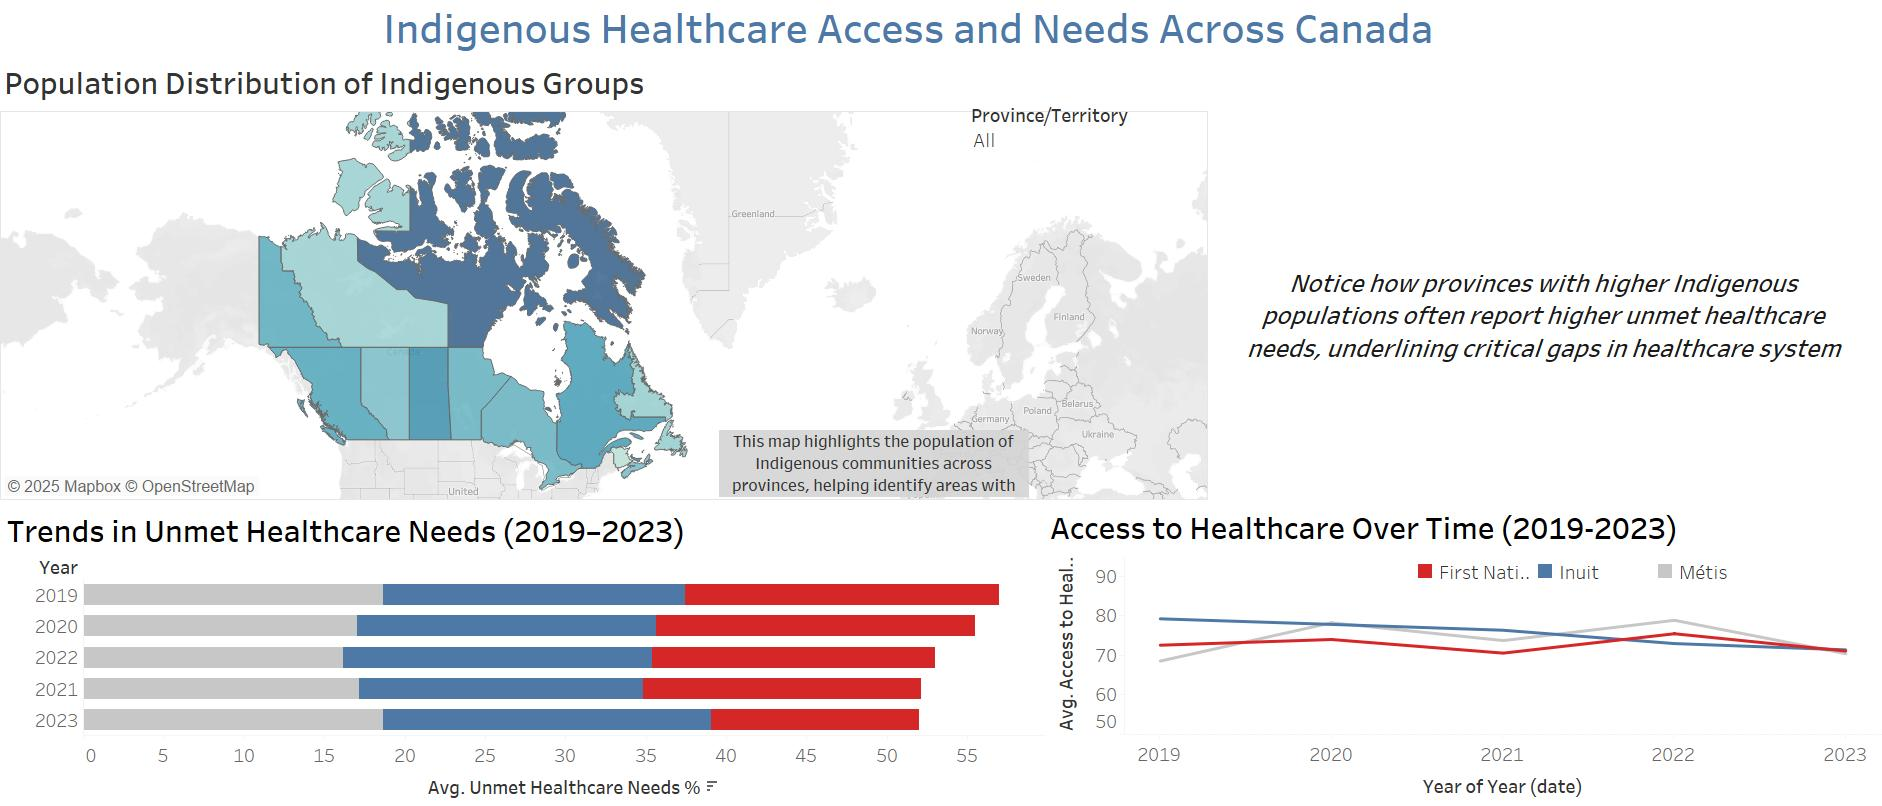

This screenshot's page, from the dashboard's own definition file:
{"tool":"tableau","page":{"name":"Population Data","canvas":[1000,1000],"units":"permille","ordinal":2},"visuals":[{"type":"title","box":[30.4,5.2,904.1,56.1]},{"type":"worksheet","title":"Map","mark":"Automatic","box":[0,67.9,641.8,552.2]},{"type":"filter","title":"Map","param":"[federated.1pnittl17nefze13nxv6o1q31cec].[none:Province/Territory:nk]","box":[515.8,125.3,123,77]},{"type":"text","box":[650.7,323.8,339.7,134.5]},{"type":"worksheet","title":"Access to Healthcare","mark":"Automatic","rows":["Access_to_Healthcare_%"],"cols":["Year (date)"],"box":[555.7,620.1,443.5,378.6]},{"type":"worksheet","title":"Unmet Healthcare Needs","mark":"Automatic","rows":["Year"],"cols":["Unmet_Healthcare_Needs_%"],"box":[1.5,624,553.4,376]}]}

Visuals, with their boxes on the dashboard's canvas, which has no fixed pixel size, in thousandths of its width and height (x1, y1, x2, y2). These are canvas units, not pixel positions in the 1882x806 screenshot, which may show the page scaled, cropped or inside an application window:
title: Rect(30, 5, 934, 61)
"Map" worksheet: Rect(0, 68, 642, 620)
"Map" filter: Rect(516, 125, 639, 202)
text: Rect(651, 324, 990, 458)
"Access to Healthcare" worksheet: Rect(556, 620, 999, 999)
"Unmet Healthcare Needs" worksheet: Rect(2, 624, 555, 1000)
